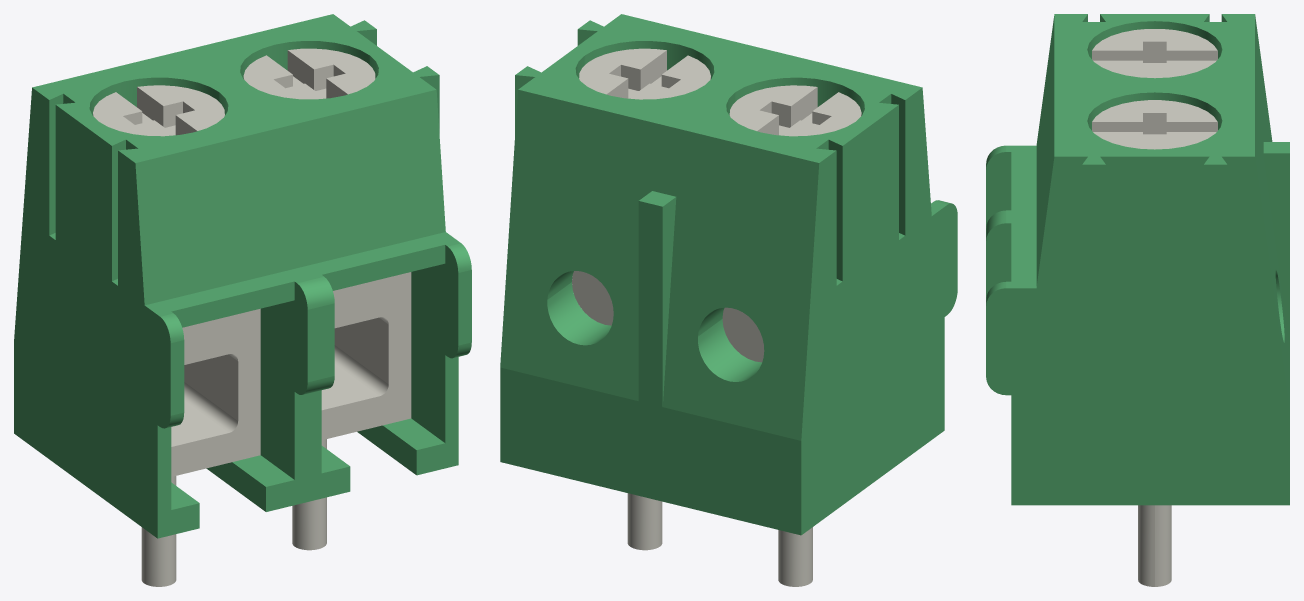
Rendered from kc-terminalblock_phoenix_pt-1_5-2-5.0-h_1x02_p5.00mm_horizontal.glb.
3 renders of one model, left to right at view 1: azimuth 30°, elevation 25°; view 2: azimuth 150°, elevation 25°; view 3: azimuth 270°, elevation 25°, orthographic. The views are drawn at different scales.
Visible parts, largest first — view 1: 0.08333333333333333_0.4166666666666667_0.16666666666666666_0, 0.6666666666666666_0.6666666666666666_0.5833333333333334_0.8; view 2: 0.08333333333333333_0.4166666666666667_0.16666666666666666_0, 0.6666666666666666_0.6666666666666666_0.5833333333333334_0.8; view 3: 0.08333333333333333_0.4166666666666667_0.16666666666666666_0, 0.6666666666666666_0.6666666666666666_0.5833333333333334_0.8.
Boxes of the visible parts, left/top/right/bottom form: 0.08333333333333333_0.4166666666666667_0.16666666666666666_0: left=14, top=14, right=471, bottom=538; 0.6666666666666666_0.6666666666666666_0.5833333333333334_0.8: left=93, top=48, right=411, bottom=586; 0.08333333333333333_0.4166666666666667_0.16666666666666666_0: left=500, top=14, right=957, bottom=535; 0.6666666666666666_0.6666666666666666_0.5833333333333334_0.8: left=572, top=48, right=861, bottom=586; 0.08333333333333333_0.4166666666666667_0.16666666666666666_0: left=986, top=14, right=1289, bottom=505; 0.6666666666666666_0.6666666666666666_0.5833333333333334_0.8: left=1092, top=29, right=1217, bottom=586.
Bounding box in the file's own units: 1.06 × 1.5 × 0.9001.
